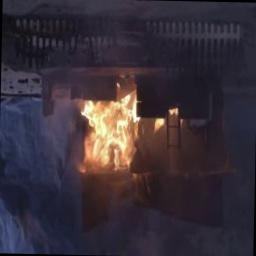fire: (83, 95, 154, 184)
